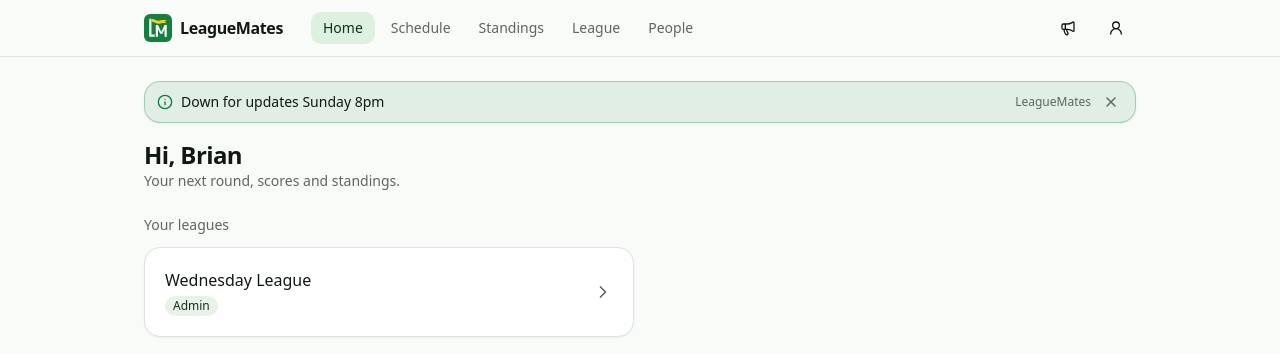
it: notice banners › site-wide notices are dismissed on the server
Click the button named "Dismiss Down for updates Sunday 8pm" at (1111, 102), box [1099,90,1123,114]
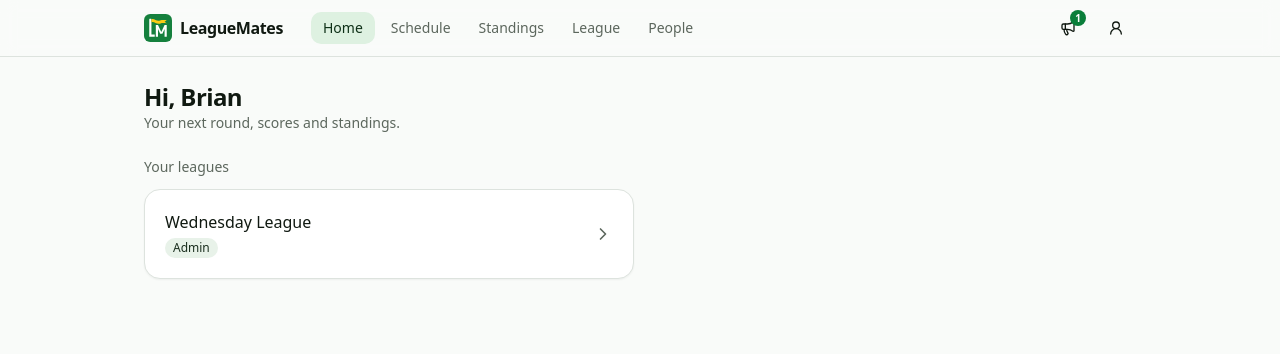
Check: the element "Notices" is gone
